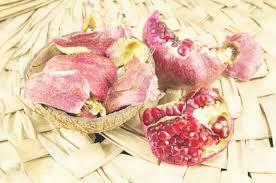Organic: (7, 8, 276, 181)
